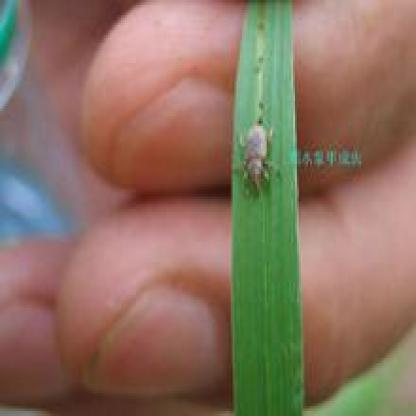rice-bug: (239, 121, 279, 192)
